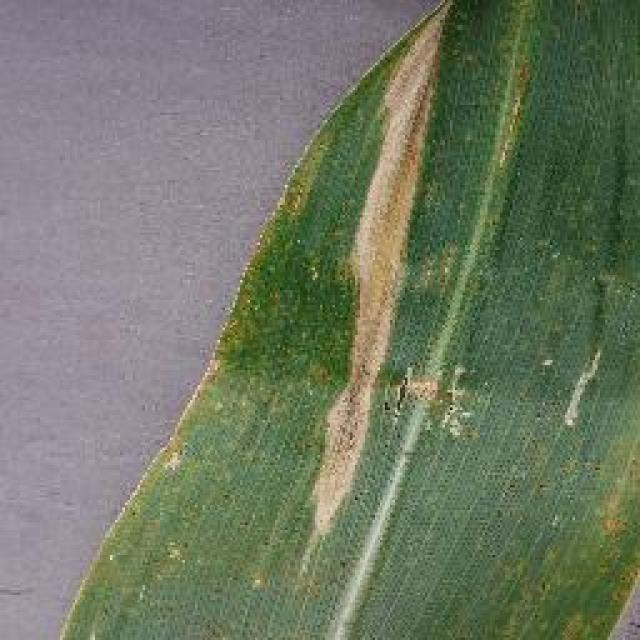Corn___Northern_Leaf_Blight: (15, 2, 640, 640)
